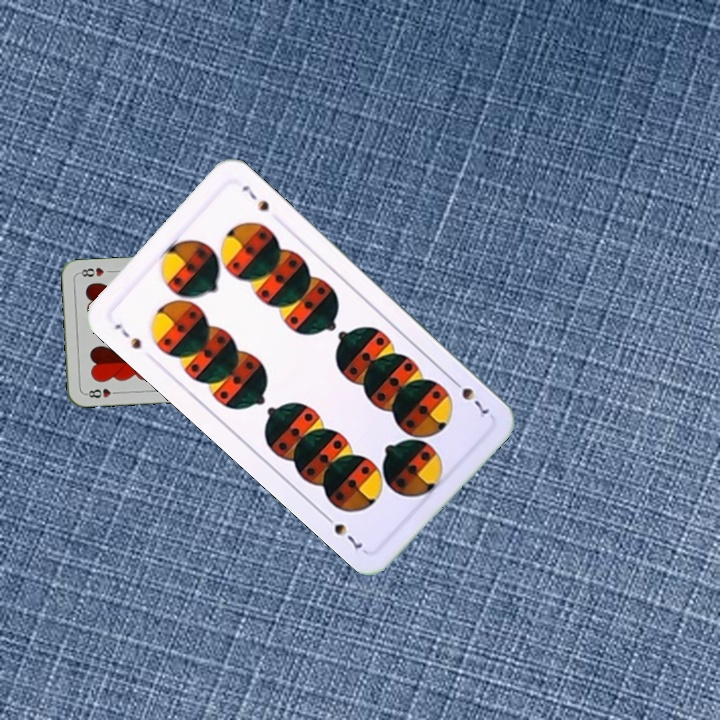H8: (82, 385, 122, 400)
S7: (447, 374, 495, 421), (110, 319, 144, 352)
